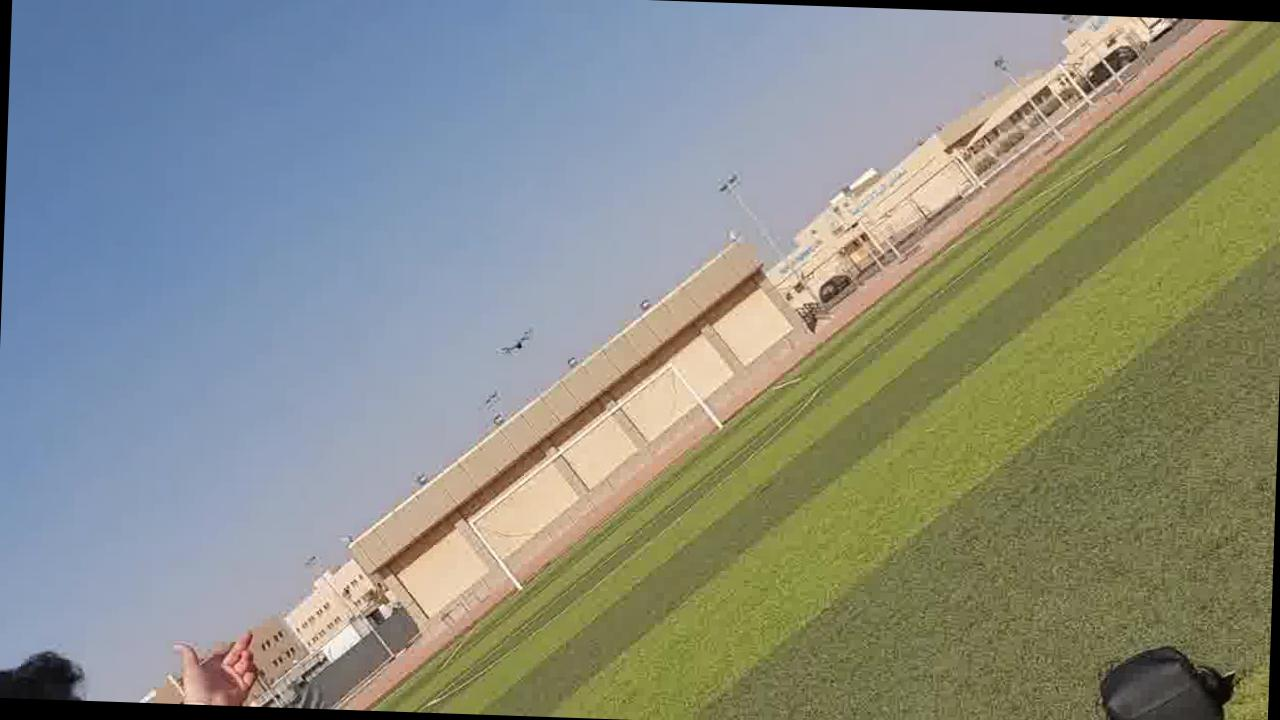drone: (496, 315, 540, 360)
